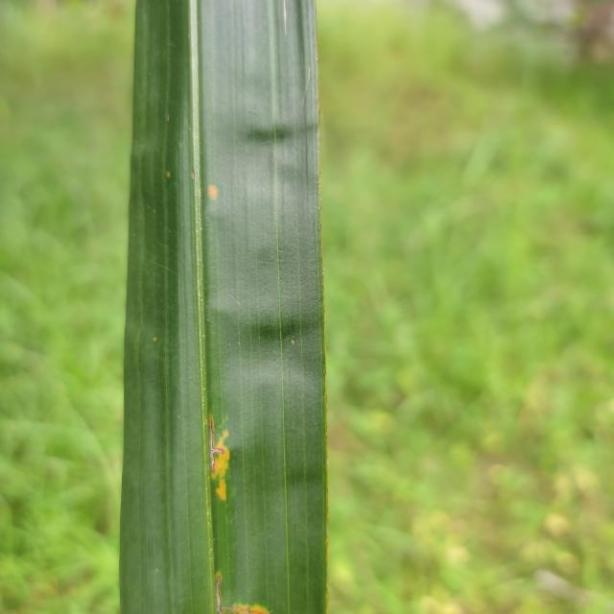Boron: (123, 0, 328, 614)
